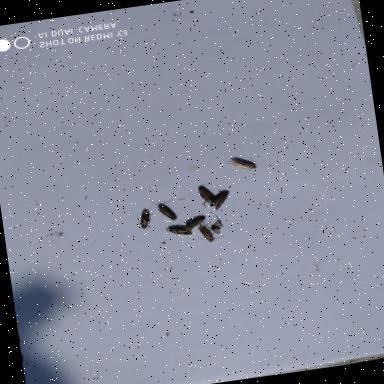pbw: (144, 194, 178, 225), (193, 220, 225, 245), (224, 154, 258, 174), (207, 188, 232, 213), (196, 182, 216, 208), (134, 208, 154, 231), (181, 214, 207, 231), (166, 222, 193, 238)
